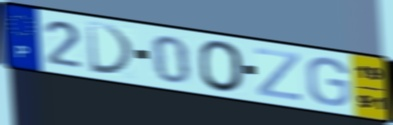0: (149, 34, 195, 85)
2: (43, 19, 85, 71)
D: (85, 20, 139, 78)
G: (304, 56, 352, 108)
O: (197, 39, 247, 95)
Z: (254, 46, 303, 103)
